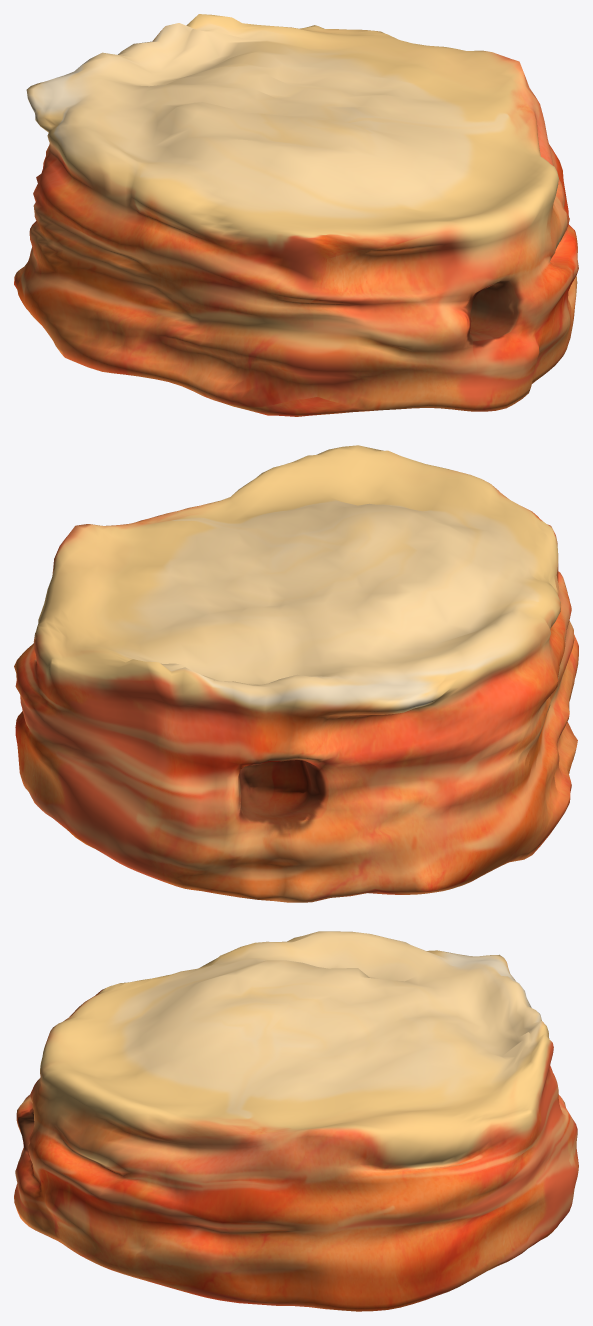
Rendered from LevelsBase 6.fbx.
3 views of the same model, one above another, from view 1: azimuth 30°, elevation 25°; view 2: azimuth 150°, elevation 25°; view 3: azimuth 270°, elevation 25° (orthographic). The views are drawn at different scales.
Visible parts, largest first — view 1: LevelsBase 1; view 2: LevelsBase 1; view 3: LevelsBase 1.
Part boxes in pixels (x1,y1,x2,y2): LevelsBase 1: (14,14,578,416); LevelsBase 1: (14,445,578,902); LevelsBase 1: (14,931,578,1311).
Size of the model in its own units: 418 by 370 by 170.
1 material, 1 textured.
